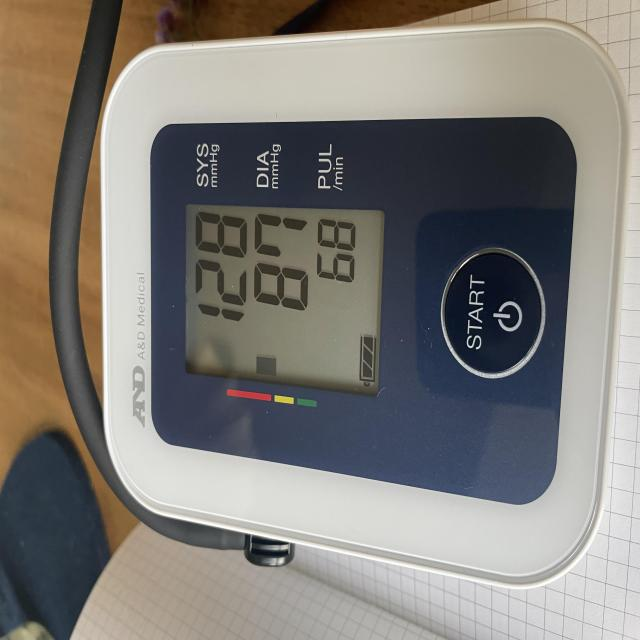bp: (89, 20, 629, 597)
